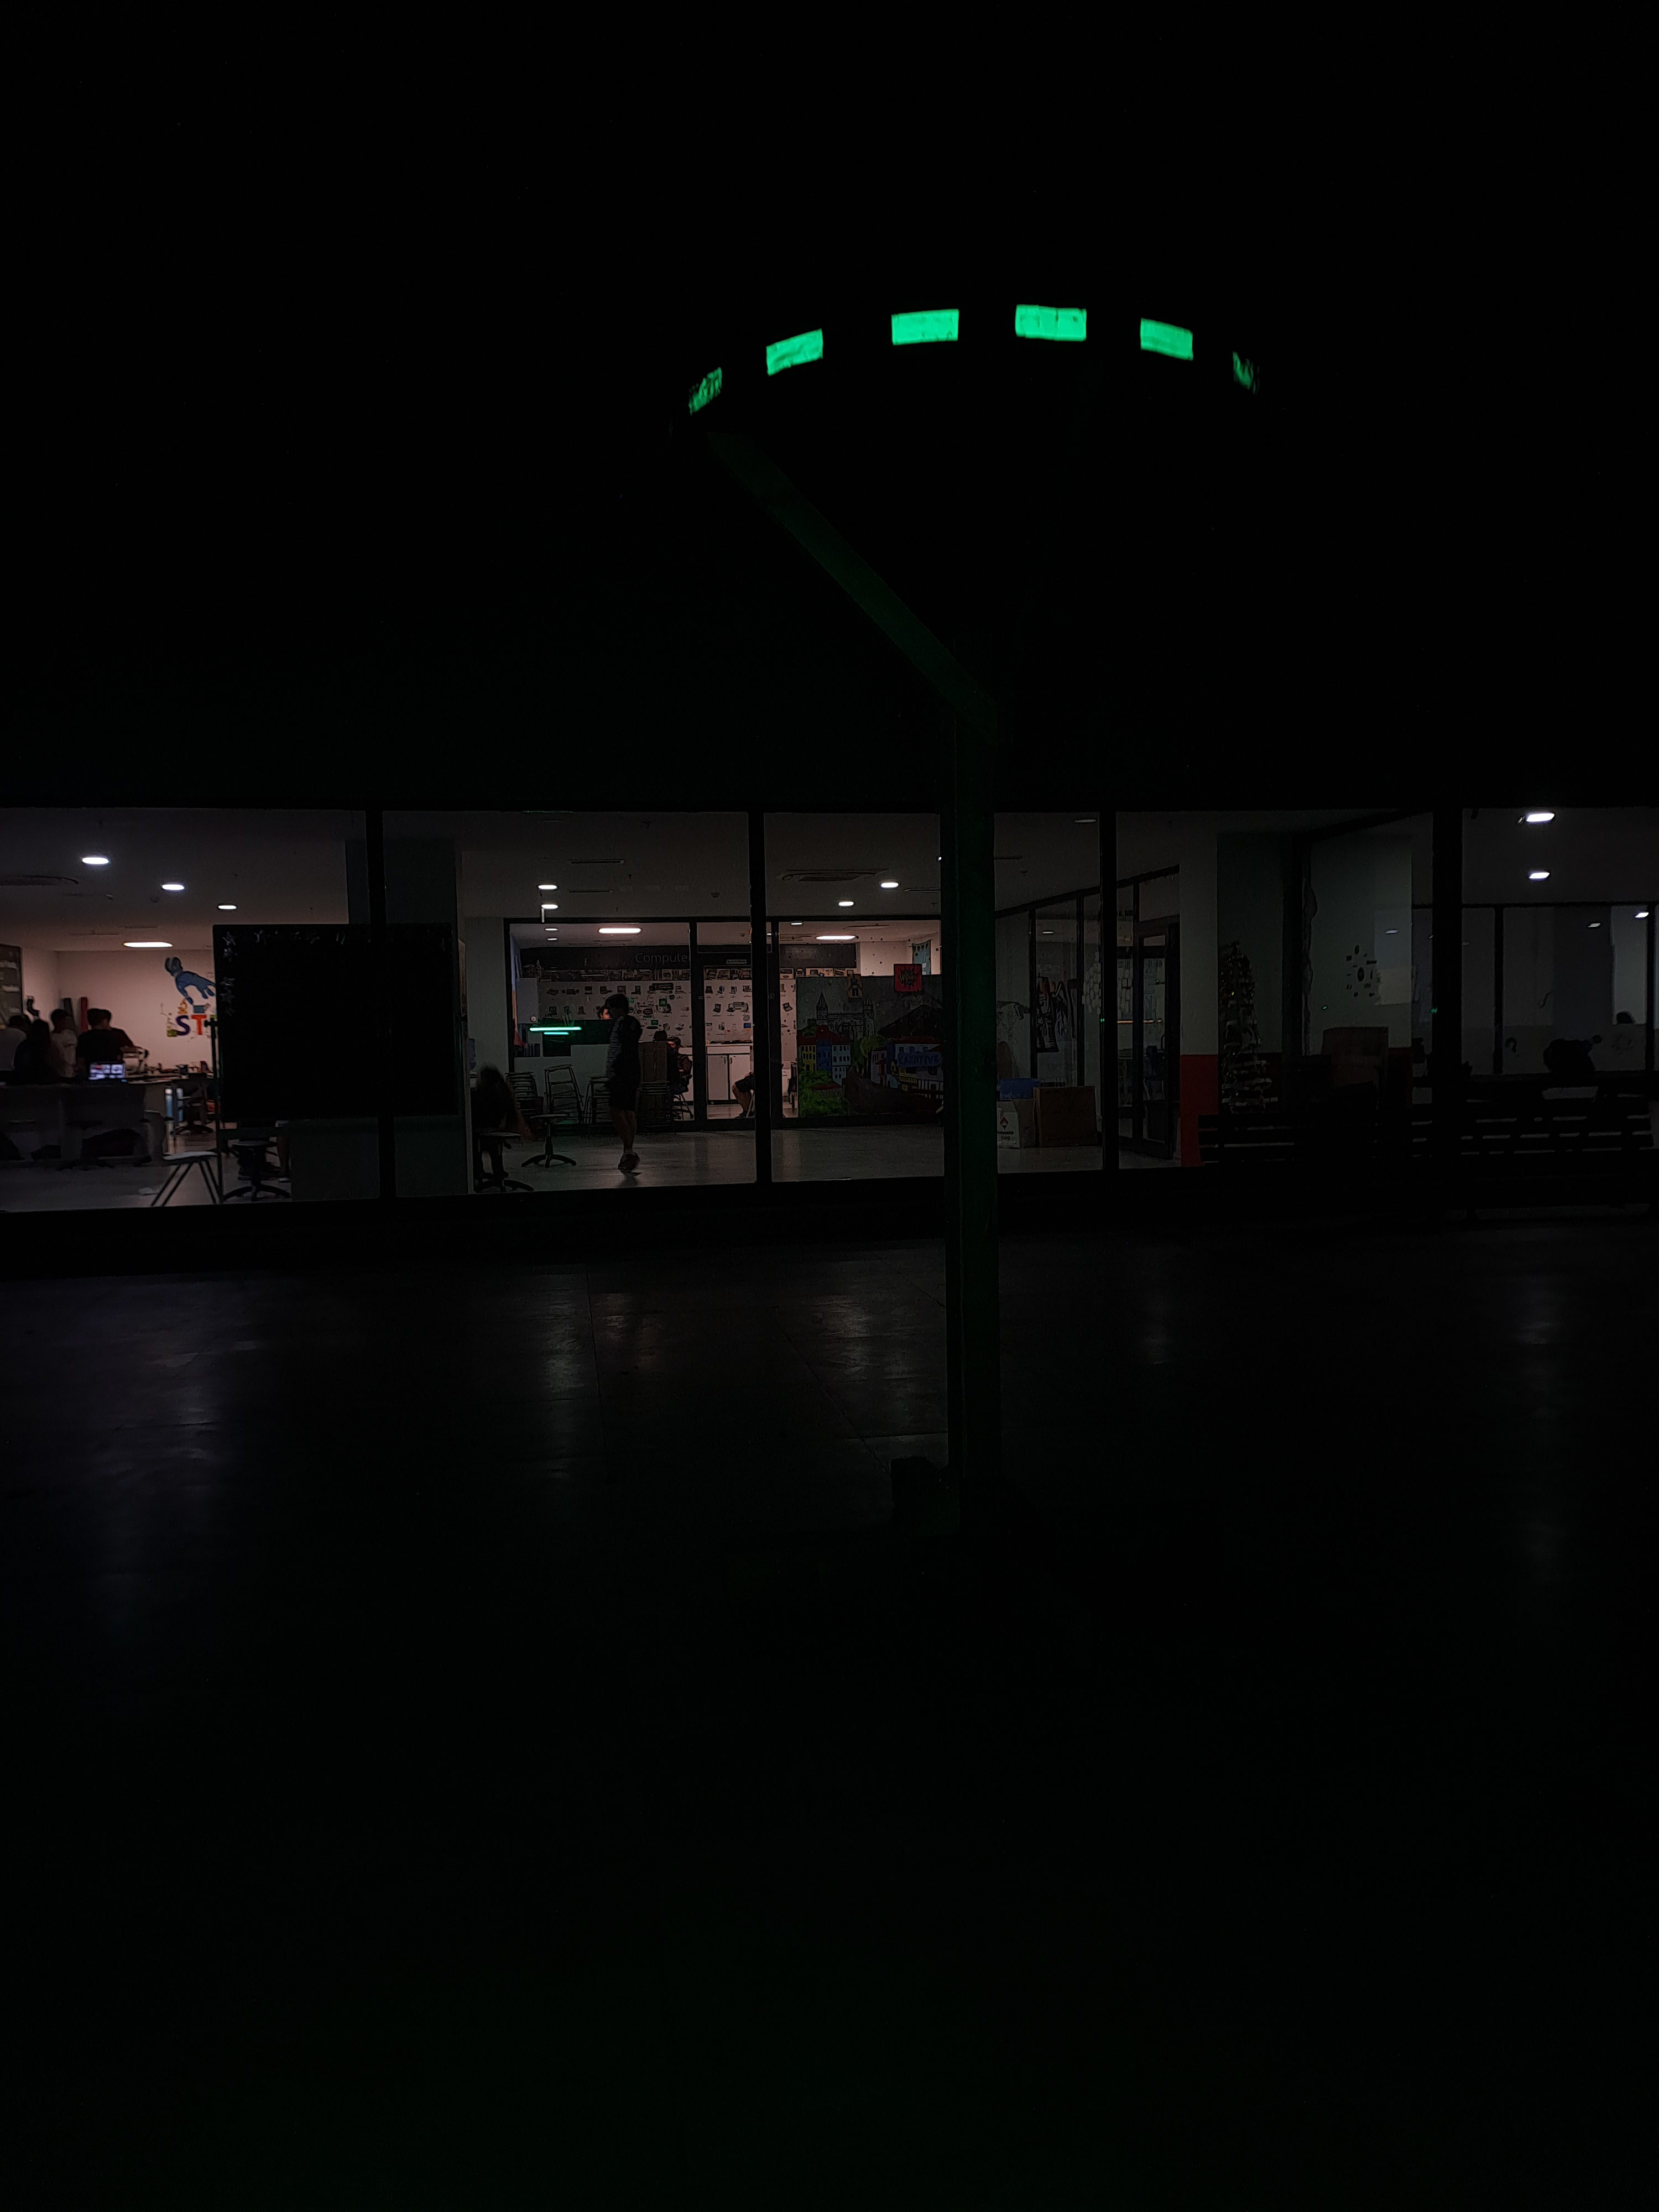hoop: (683, 307, 1263, 427)
